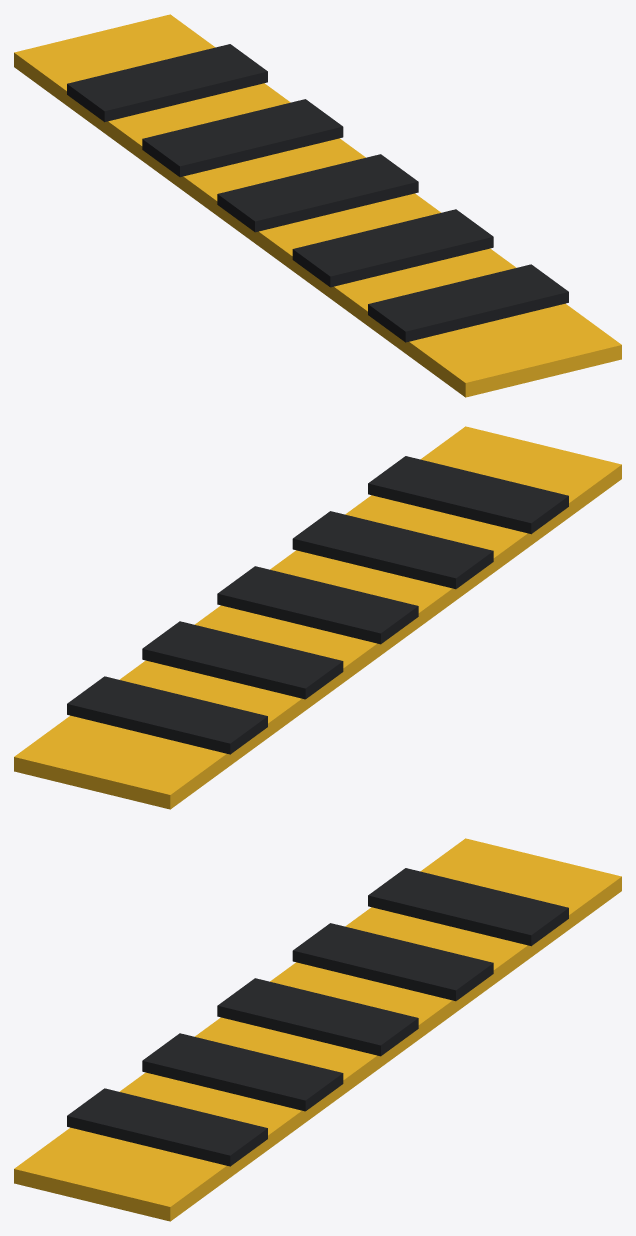
The model's file is industrial_hazard_band.glb.
3 renders of one model, top to bottom at view 1: azimuth 30°, elevation 25°; view 2: azimuth 150°, elevation 25°; view 3: azimuth 330°, elevation 25°, orthographic.
Size of the model in its own units: 0.188 by 0.028 by 0.9.
